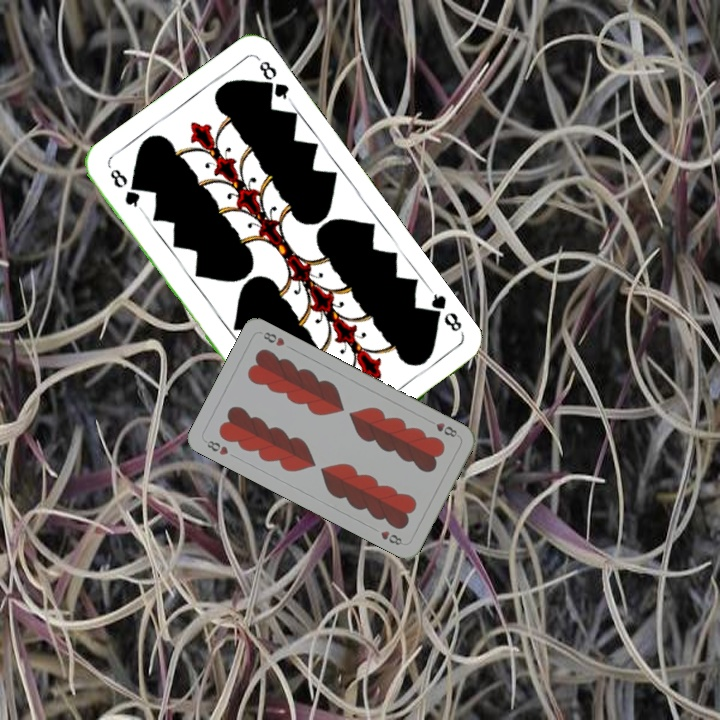G8: (422, 290, 467, 339), (106, 164, 145, 214)
H8: (200, 436, 231, 458), (432, 418, 460, 440)
